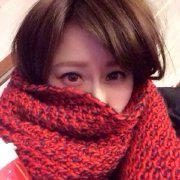WRONG: (48, 51, 144, 147)
